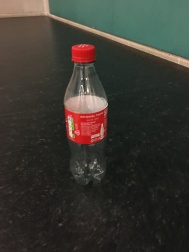bottle_red: (60, 39, 121, 195)
